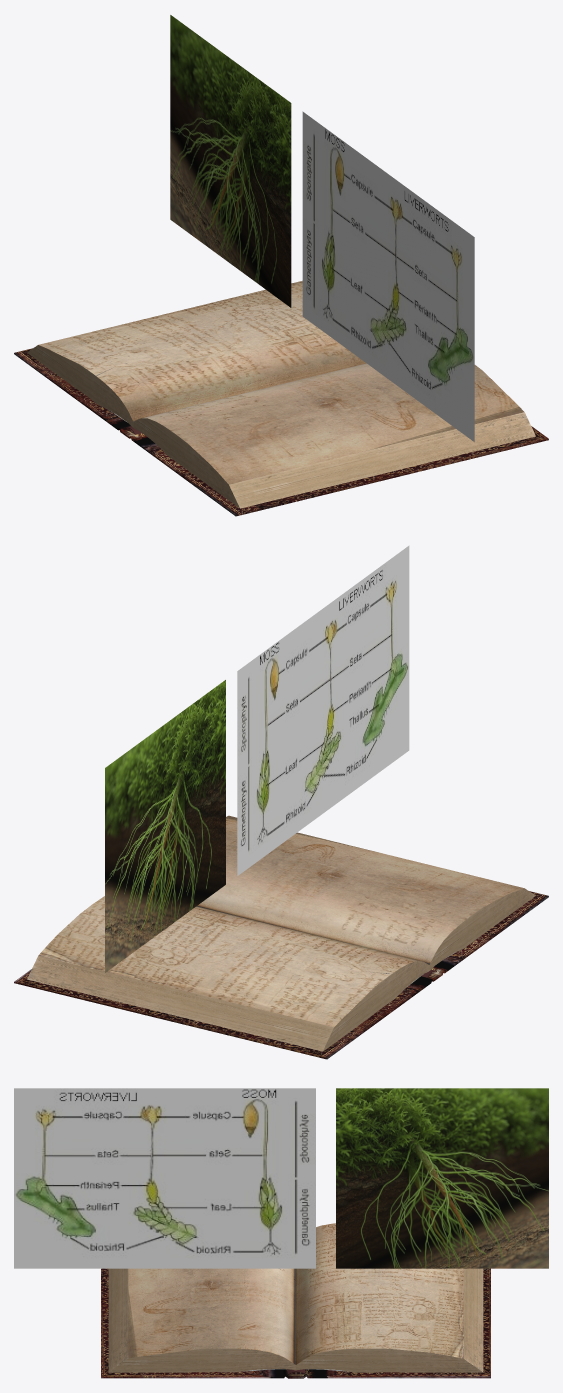
Rendered from rhizoid.glb.
3 views of the same model, one above another, from view 1: azimuth 30°, elevation 25°; view 2: azimuth 150°, elevation 25°; view 3: azimuth 270°, elevation 25° (orthographic). The views are drawn at different scales.
Parts seen in each view (by area): view 1: polySurface23, rhizoid_inner_info, rhizoid_inner_info2, polySurface21; view 2: polySurface23, rhizoid_inner_info, rhizoid_inner_info2, polySurface21; view 3: rhizoid_inner_info, polySurface23, rhizoid_inner_info2, polySurface21.
Part boxes in pixels (left/top/right/bottom): polySurface23: left=27, top=280, right=535, bottom=508; rhizoid_inner_info: left=302, top=111, right=474, bottom=441; rhizoid_inner_info2: left=170, top=15, right=291, bottom=307; polySurface21: left=14, top=348, right=548, bottom=516; polySurface23: left=27, top=815, right=535, bottom=1051; rhizoid_inner_info: left=237, top=545, right=409, bottom=875; rhizoid_inner_info2: left=105, top=680, right=225, bottom=972; polySurface21: left=14, top=891, right=548, bottom=1059; rhizoid_inner_info: left=14, top=1088, right=315, bottom=1268; polySurface23: left=108, top=1223, right=483, bottom=1372; rhizoid_inner_info2: left=336, top=1088, right=548, bottom=1268; polySurface21: left=101, top=1268, right=490, bottom=1378.
Size of the model in its own units: 2.4 by 1.97 by 4.03.
Materials: 7 (5 with a texture image).
